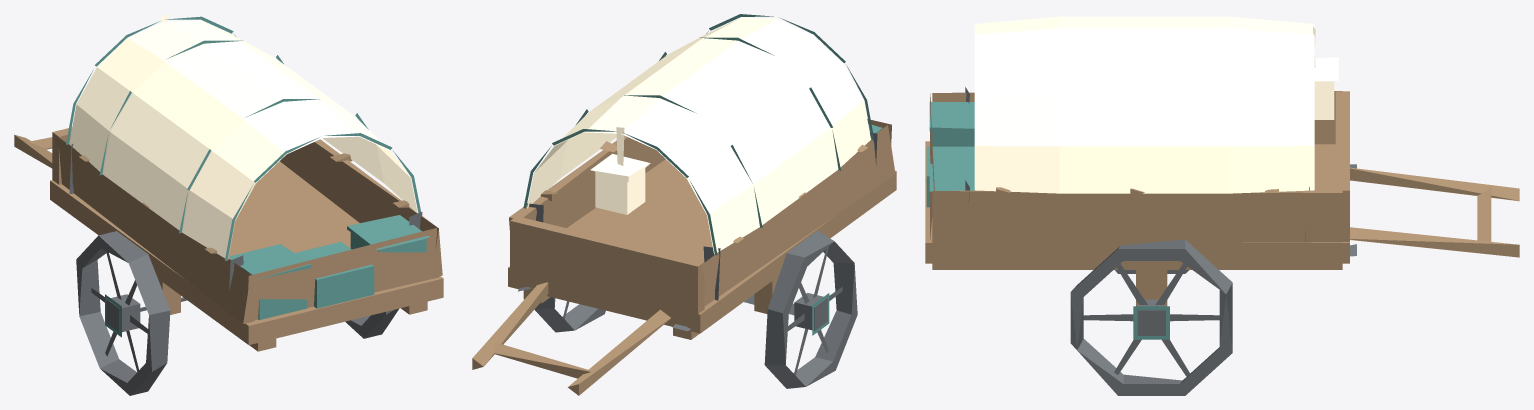
Rendered from 157-Medios-De-Transporte_carreta_ancestral.glb.
3 renders of one model, left to right at view 1: azimuth 30°, elevation 25°; view 2: azimuth 150°, elevation 25°; view 3: azimuth 270°, elevation 25°, orthographic. The views are drawn at different scales.
Parts seen in each view (by area): view 1: SM_Carreta_M_Carreta_Lona, SM_Carreta_M_Carreta_Madera, SM_Carreta_M_Carreta_Hierro, SM_Carreta_M_Carreta_Verde; view 2: SM_Carreta_M_Carreta_Lona, SM_Carreta_M_Carreta_Madera, SM_Carreta_M_Carreta_Hierro, SM_Carreta_M_Carreta_Verde; view 3: SM_Carreta_M_Carreta_Lona, SM_Carreta_M_Carreta_Madera, SM_Carreta_M_Carreta_Hierro, SM_Carreta_M_Carreta_Verde.
Boxes of the visible parts, box(x1,y1,x2,y2) form: SM_Carreta_M_Carreta_Lona: box(69, 14, 417, 259); SM_Carreta_M_Carreta_Madera: box(14, 127, 443, 351); SM_Carreta_M_Carreta_Hierro: box(69, 144, 422, 395); SM_Carreta_M_Carreta_Verde: box(66, 16, 429, 337); SM_Carreta_M_Carreta_Lona: box(527, 17, 870, 254); SM_Carreta_M_Carreta_Madera: box(472, 119, 896, 395); SM_Carreta_M_Carreta_Hierro: box(518, 133, 877, 388); SM_Carreta_M_Carreta_Verde: box(523, 14, 882, 335); SM_Carreta_M_Carreta_Lona: box(974, 16, 1338, 193); SM_Carreta_M_Carreta_Madera: box(925, 91, 1519, 306); SM_Carreta_M_Carreta_Hierro: box(965, 87, 1356, 395); SM_Carreta_M_Carreta_Verde: box(926, 102, 1169, 339).
Bounding box in the file's own units: 2.22 × 2.39 × 4.2.
